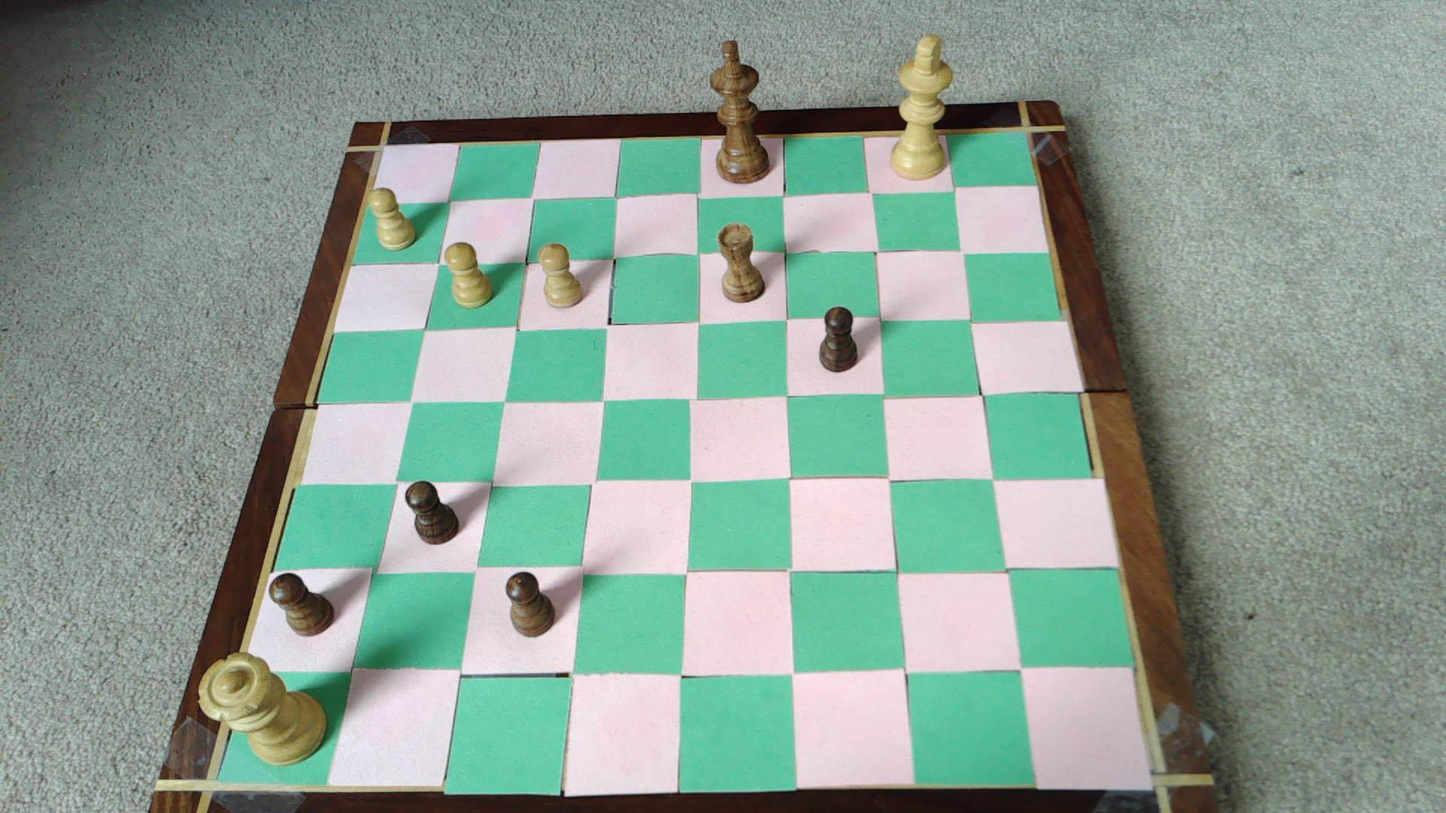dark_piece: (711, 42, 770, 183), (270, 572, 334, 635), (718, 224, 764, 302), (406, 481, 458, 543), (505, 571, 554, 636), (819, 306, 857, 371)
white_piece: (200, 653, 324, 763), (890, 33, 954, 179), (445, 242, 494, 306), (539, 242, 584, 307), (371, 188, 416, 250)
